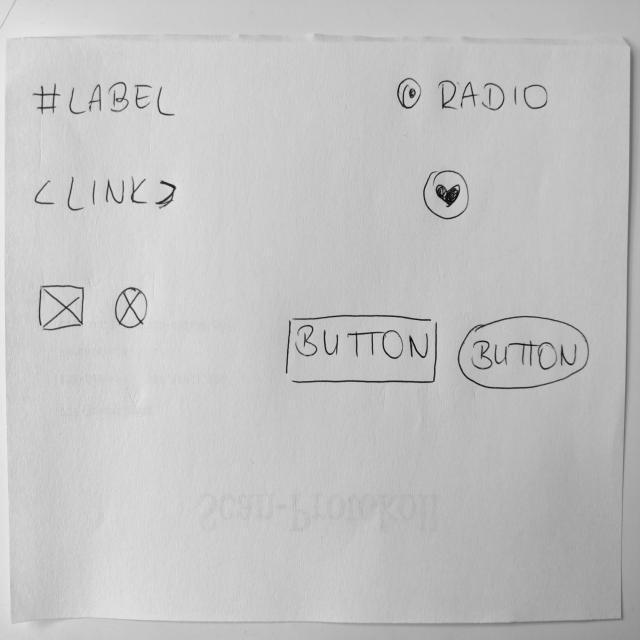button: (284, 313, 442, 387), (458, 315, 592, 393)
icon-button: (422, 168, 473, 222)
image: (39, 283, 87, 335), (115, 287, 150, 333)
label: (31, 81, 179, 122)
link: (33, 173, 179, 216)
radio: (396, 77, 552, 114)
